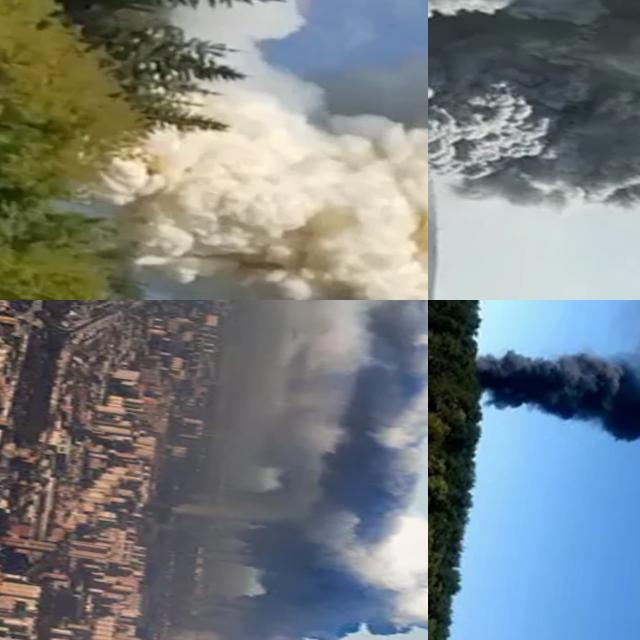smoke: (65, 0, 428, 300), (156, 300, 428, 640), (428, 0, 640, 292), (467, 300, 640, 519)
